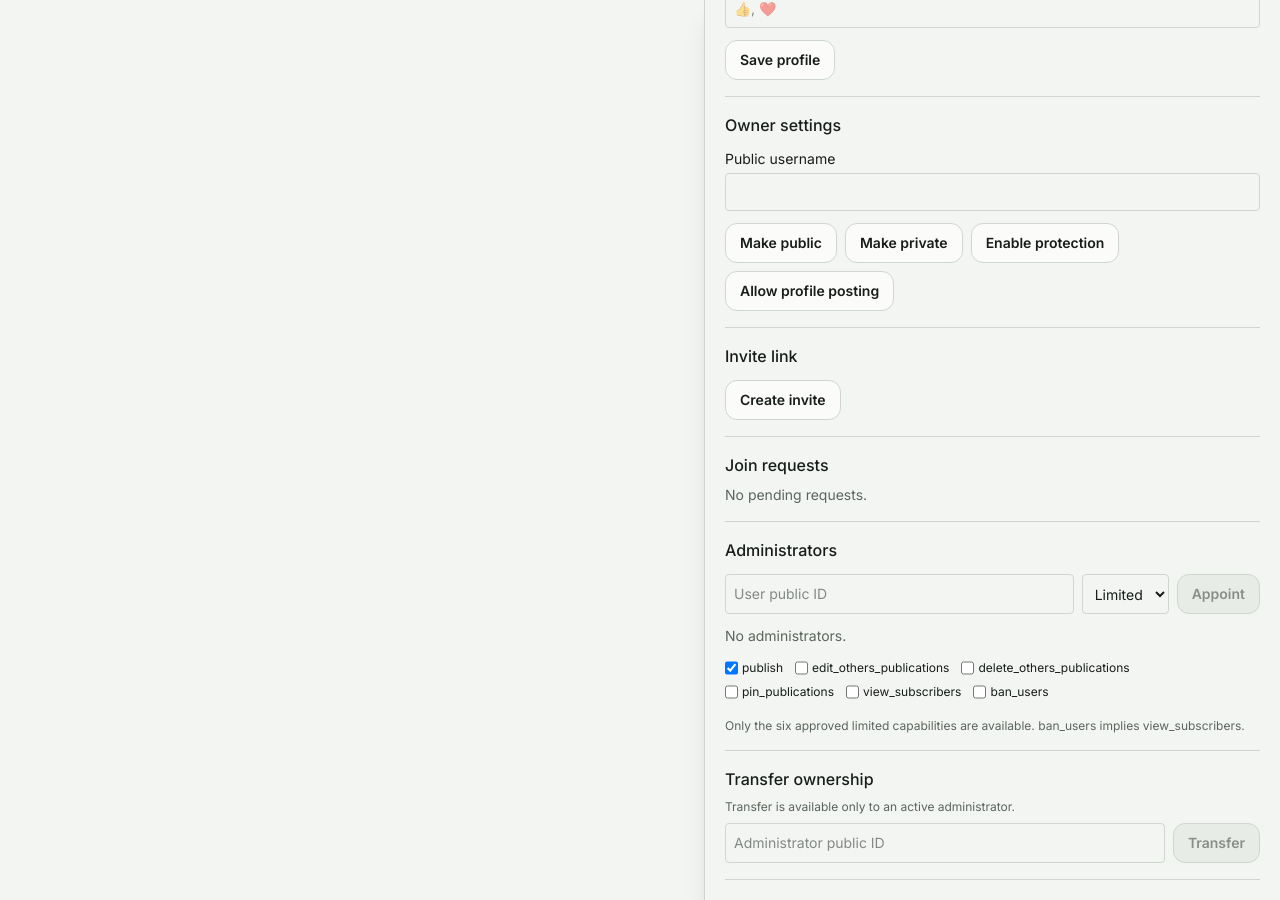
Scenario: broadcast channel management › renders the exact six capabilities and makes ban_users imply subscribers
(page scrolled)
Expected: the heading "Administrators" is shown, top-left (725, 540), bottom-right (837, 560)
What coordinates should you click on to do the following:
click the checkbox labelled "ban_users"
I would click on:
 (980, 692)
Its box is top-left (973, 684), bottom-right (986, 700).
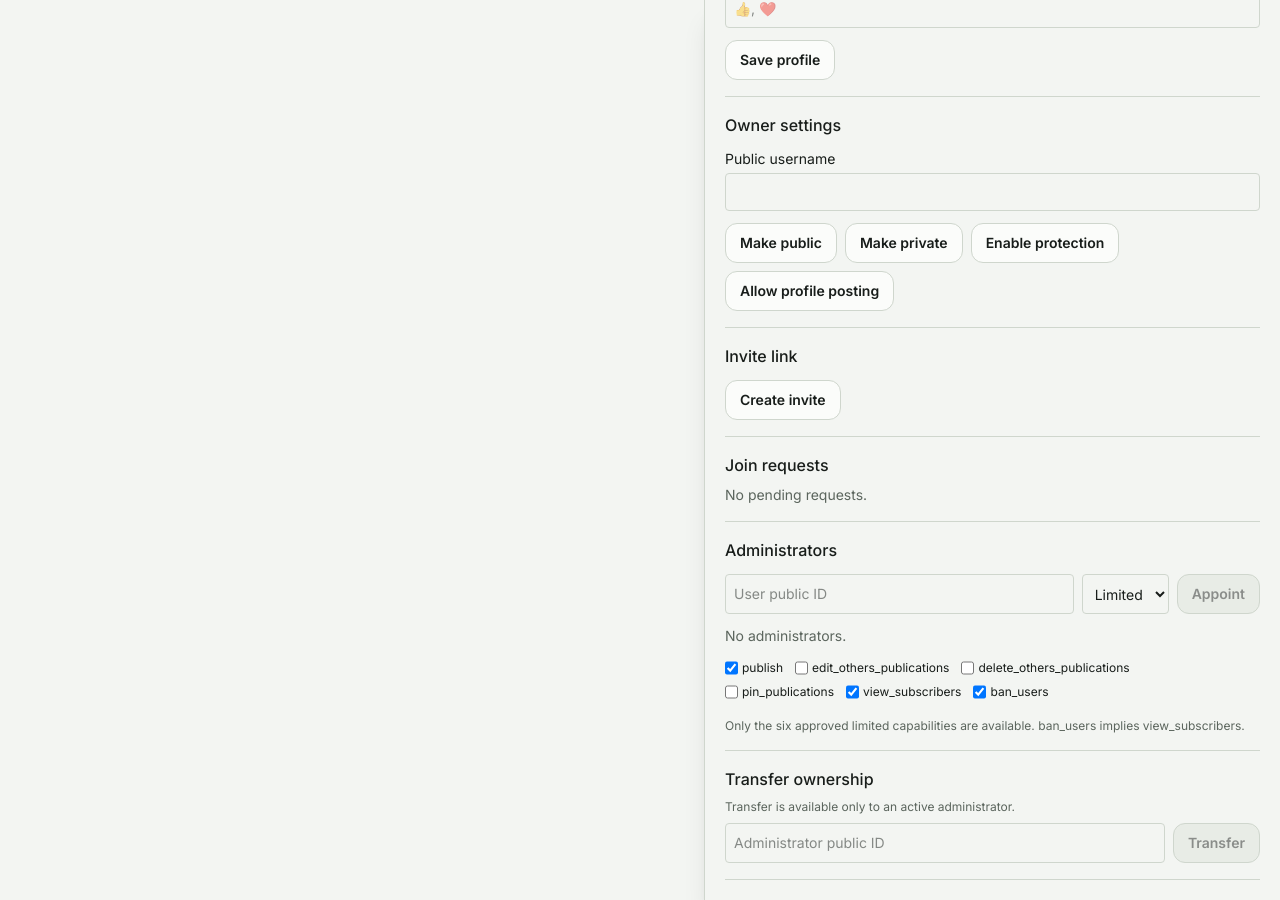
Now the checkbox labelled "view_subscribers" is checked, box top-left (846, 684), bottom-right (859, 700)
